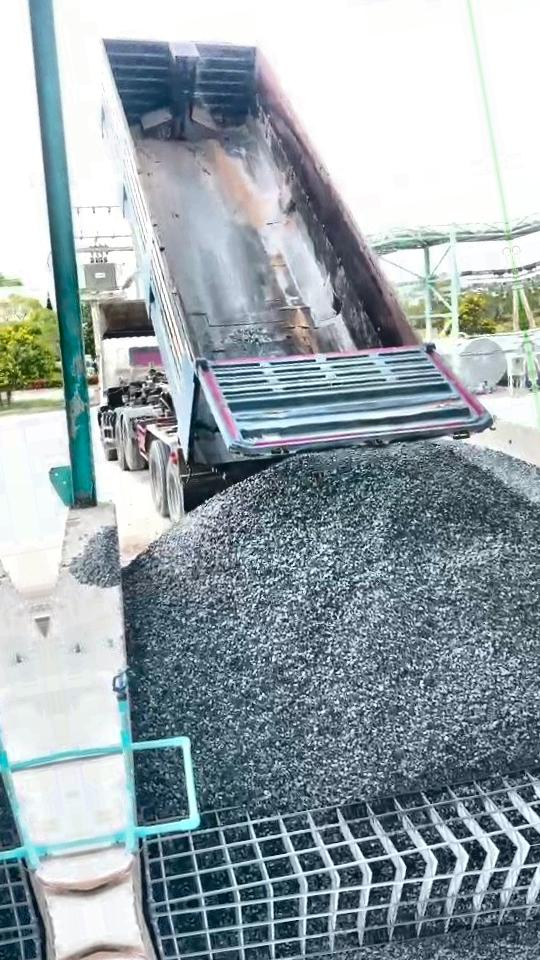gravel: (123, 442, 540, 814), (68, 526, 120, 587), (136, 752, 185, 816)
